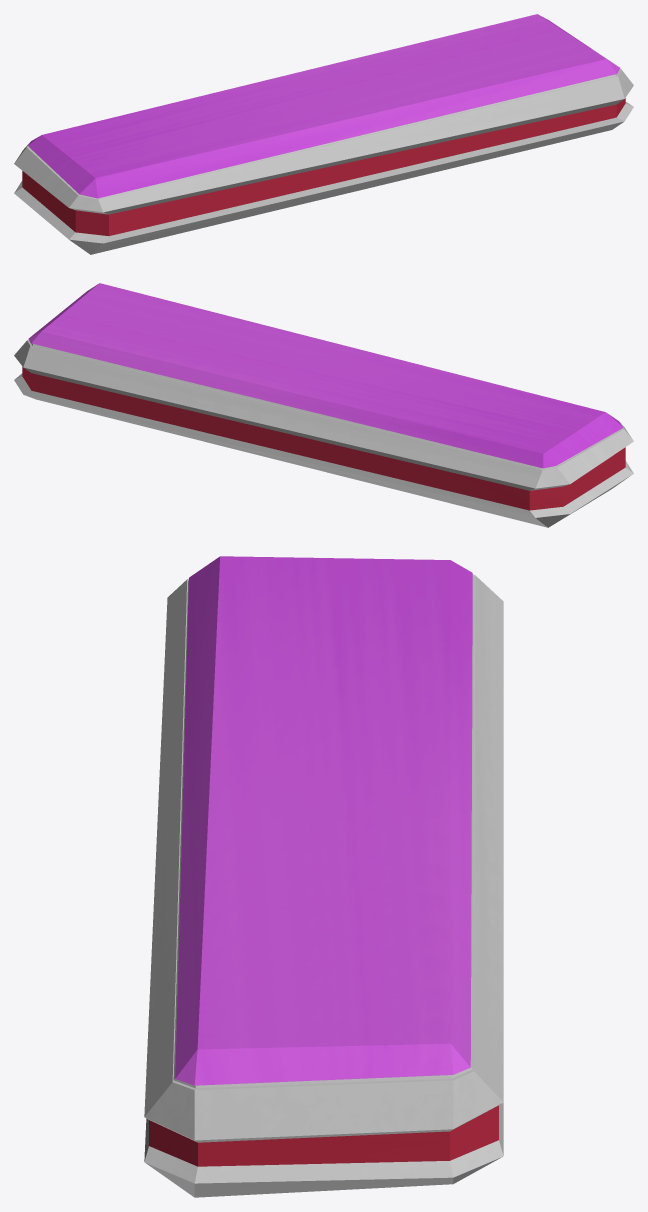
The model's file is Bench.fbx.
3 renders of one model, top to bottom at view 1: azimuth 30°, elevation 25°; view 2: azimuth 150°, elevation 25°; view 3: azimuth 270°, elevation 25°, orthographic. The views are drawn at different scales.
Parts seen in each view (by area): view 1: Sink; view 2: Sink; view 3: Sink.
Part boxes in pixels (x1,y1,x2,y2): Sink: [14, 14, 633, 254]; Sink: [14, 283, 633, 527]; Sink: [144, 556, 503, 1197].
Bounding box in the file's own units: 377 × 48.3 × 105.
